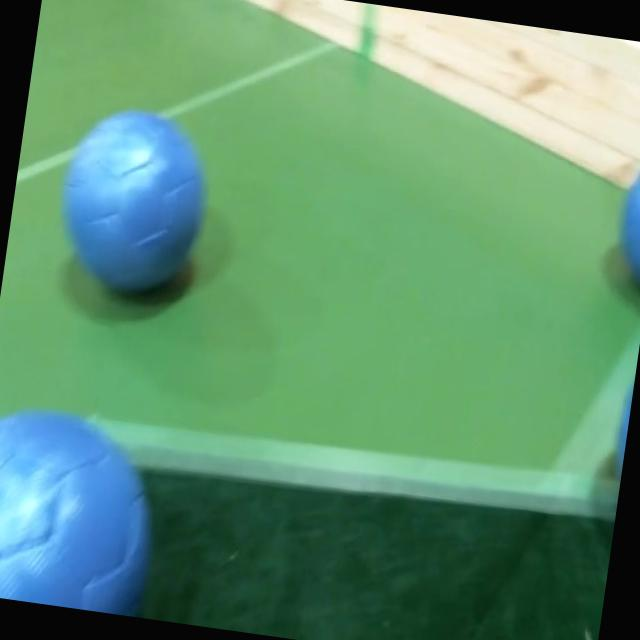blue_ball: (0, 404, 177, 618), (47, 99, 218, 315), (610, 139, 640, 301)
